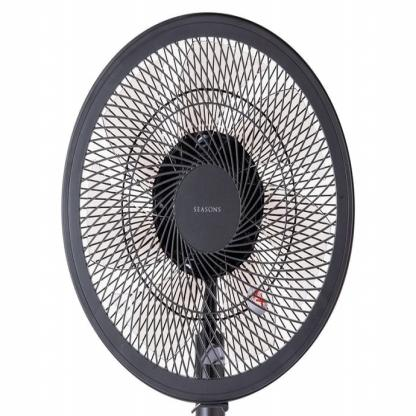fan: (50, 6, 360, 412)
